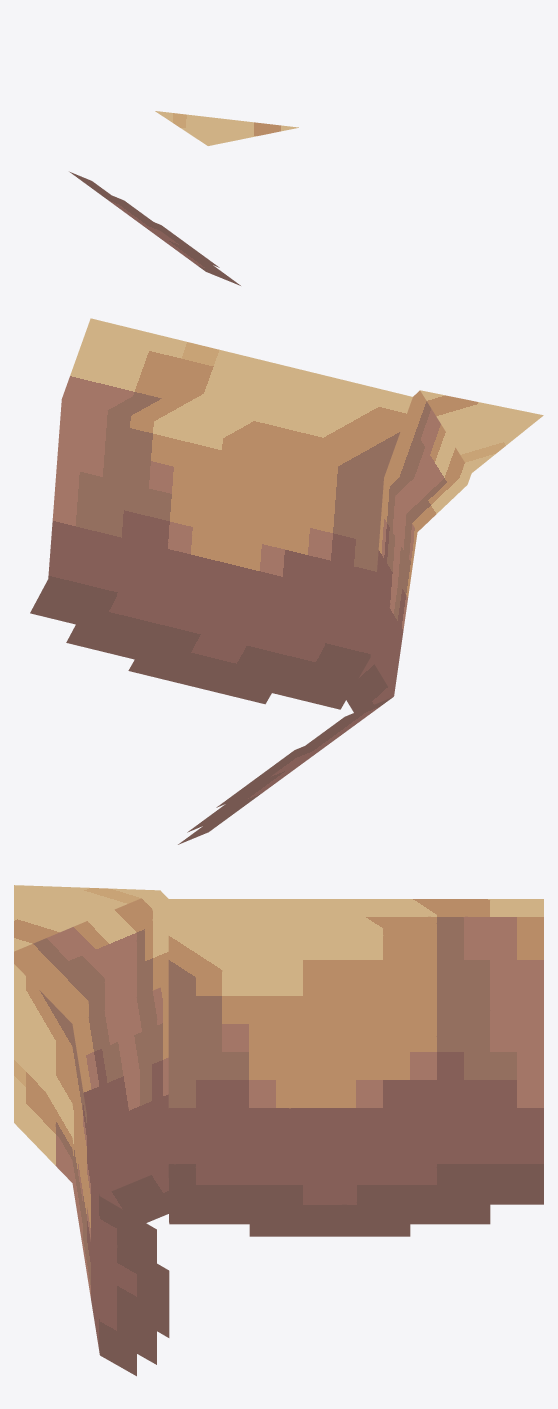
3 renders of one model, top to bottom at view 1: azimuth 30°, elevation 25°; view 2: azimuth 150°, elevation 25°; view 3: azimuth 270°, elevation 25°, orthographic. The views are drawn at different scales.
Bounding box in the file's own units: 1 × 0.5949 × 1.
Materials: 1 (1 with a texture image).
